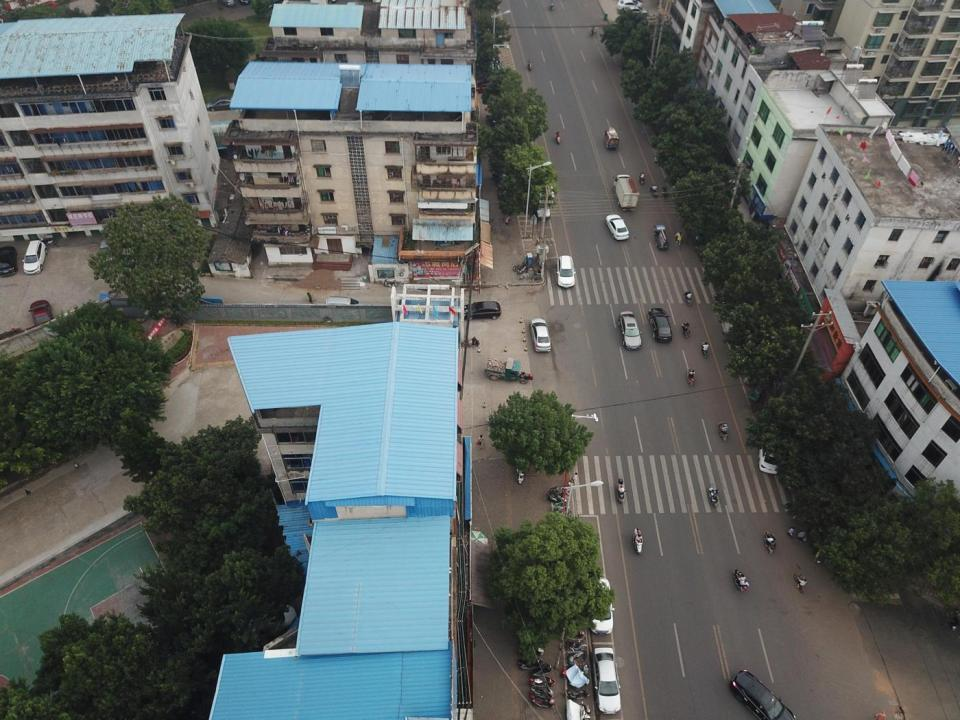car: (730, 669, 798, 720), (592, 646, 621, 714), (588, 577, 613, 635), (29, 299, 55, 336), (618, 310, 642, 350), (22, 240, 50, 274), (647, 307, 673, 342), (758, 437, 780, 474), (529, 318, 552, 353), (325, 296, 366, 314), (462, 301, 502, 319), (205, 95, 247, 112), (605, 214, 629, 241), (556, 255, 575, 289), (0, 245, 18, 276), (474, 81, 504, 92), (617, 0, 645, 11), (624, 5, 648, 16)
truck: (613, 175, 640, 212)
